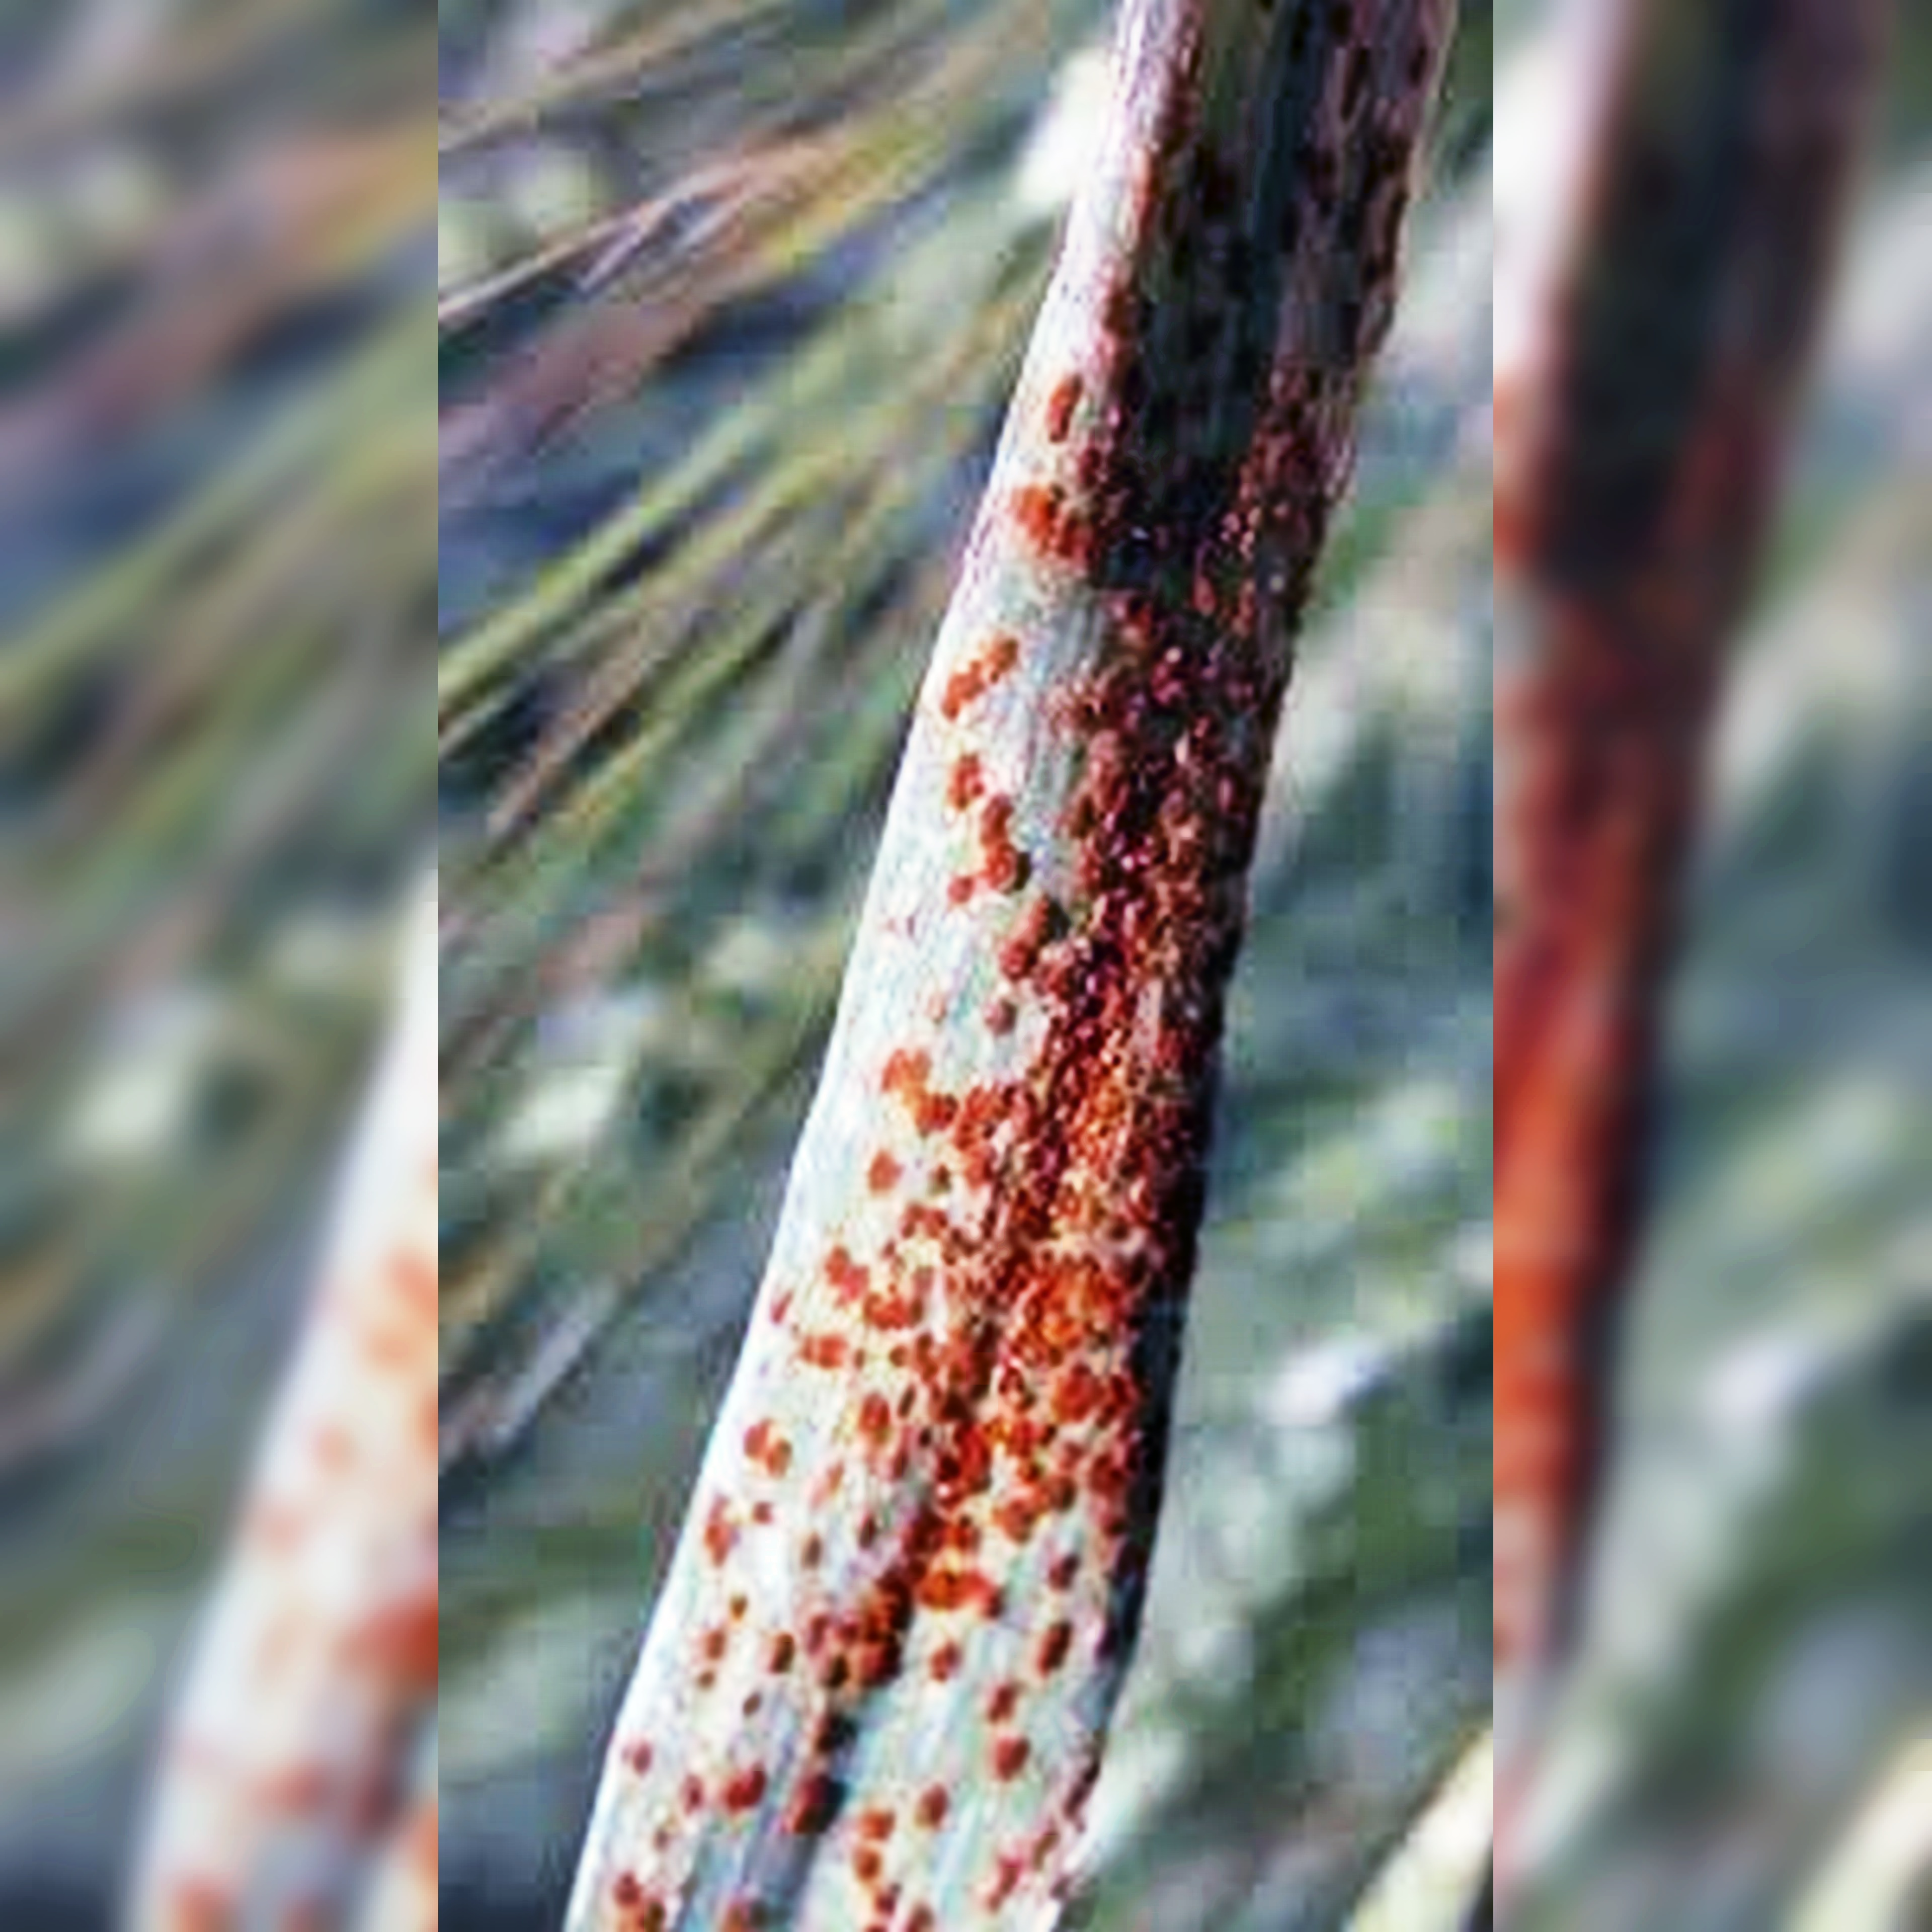Leaf Rust: (625, 370, 1366, 1845)
